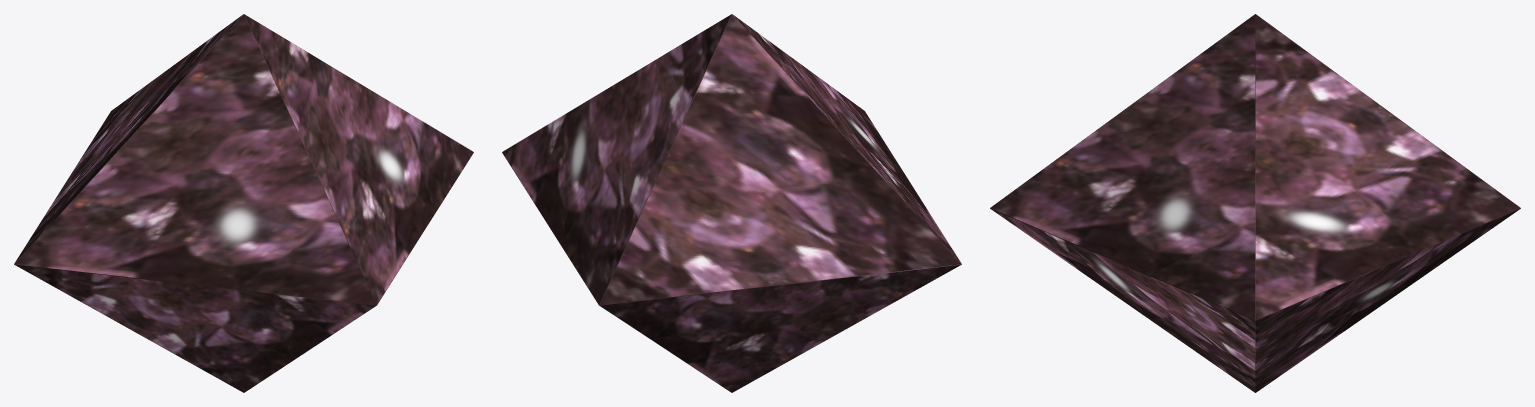
Rendered from diamond.gltf.
The picture shows the model from 3 angles, left to right: view 1: azimuth 30°, elevation 25°; view 2: azimuth 150°, elevation 25°; view 3: azimuth 270°, elevation 25°; orthographic projection.
Parts seen in each view (by area): view 1: Diamond; view 2: Diamond; view 3: Diamond.
Boxes of the visible parts, x1,y1,x2,y2 form: Diamond: (14, 14, 473, 392); Diamond: (502, 14, 961, 392); Diamond: (990, 14, 1520, 392).
Size of the model in its own units: 2 by 1.57 by 2.
1 material, 1 textured.
